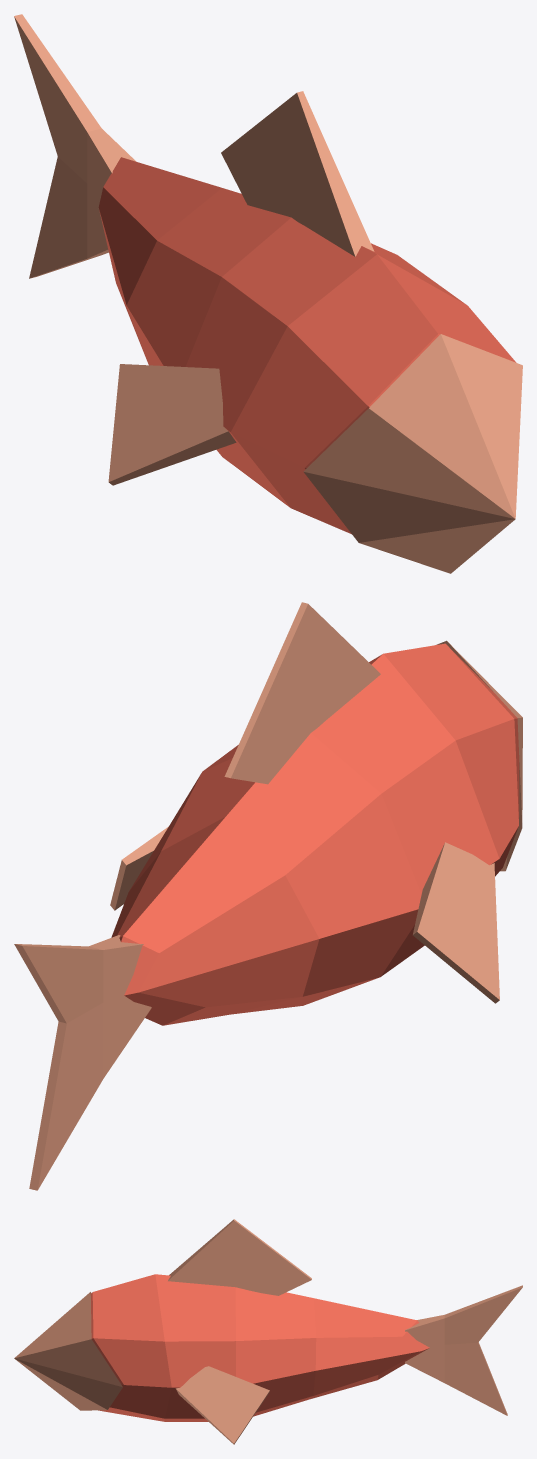
File: Fish.fbx
The picture shows the model from 3 angles, top to bottom: view 1: azimuth 30°, elevation 25°; view 2: azimuth 150°, elevation 25°; view 3: azimuth 270°, elevation 25°; orthographic projection. The views are drawn at different scales.
Parts seen in each view (by area): view 1: Body, Face, Tail, Top fin, Side fins; view 2: Body, Tail, Top fin, Side fins, Face; view 3: Body, Tail, Face, Top fin, Side fins.
Part boxes in pixels (<box>): Body: <box>98,157,516,534</box>; Face: <box>303,334,522,573</box>; Tail: <box>14,14,135,278</box>; Top fin: <box>221,91,374,256</box>; Side fins: <box>108,364,236,485</box>; Body: <box>111,643,519,1025</box>; Tail: <box>14,935,151,1190</box>; Top fin: <box>224,602,380,784</box>; Side fins: <box>110,827,499,1003</box>; Face: <box>436,640,522,871</box>; Body: <box>90,1274,429,1421</box>; Tail: <box>405,1285,522,1415</box>; Face: <box>14,1292,122,1410</box>; Top fin: <box>168,1219,311,1295</box>; Side fins: <box>175,1366,269,1444</box>.
Bounding box in the file's own units: 316 × 311 × 710.
